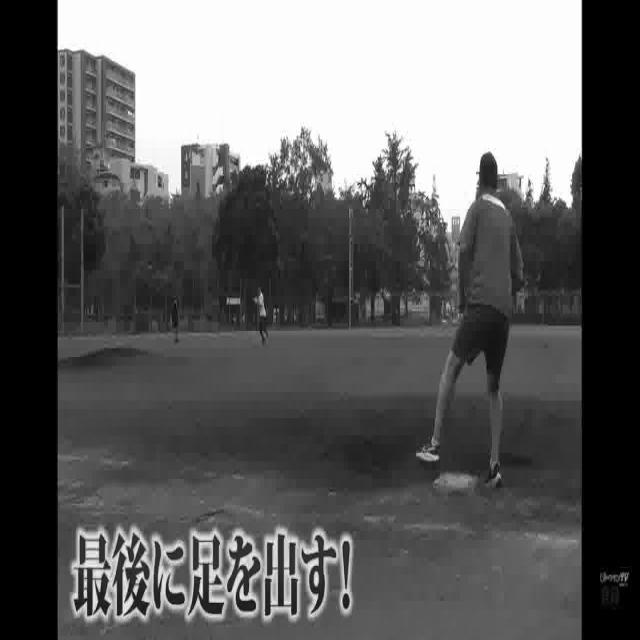base: (432, 476, 478, 494)
shoe: (416, 436, 442, 468), (484, 457, 502, 491)
